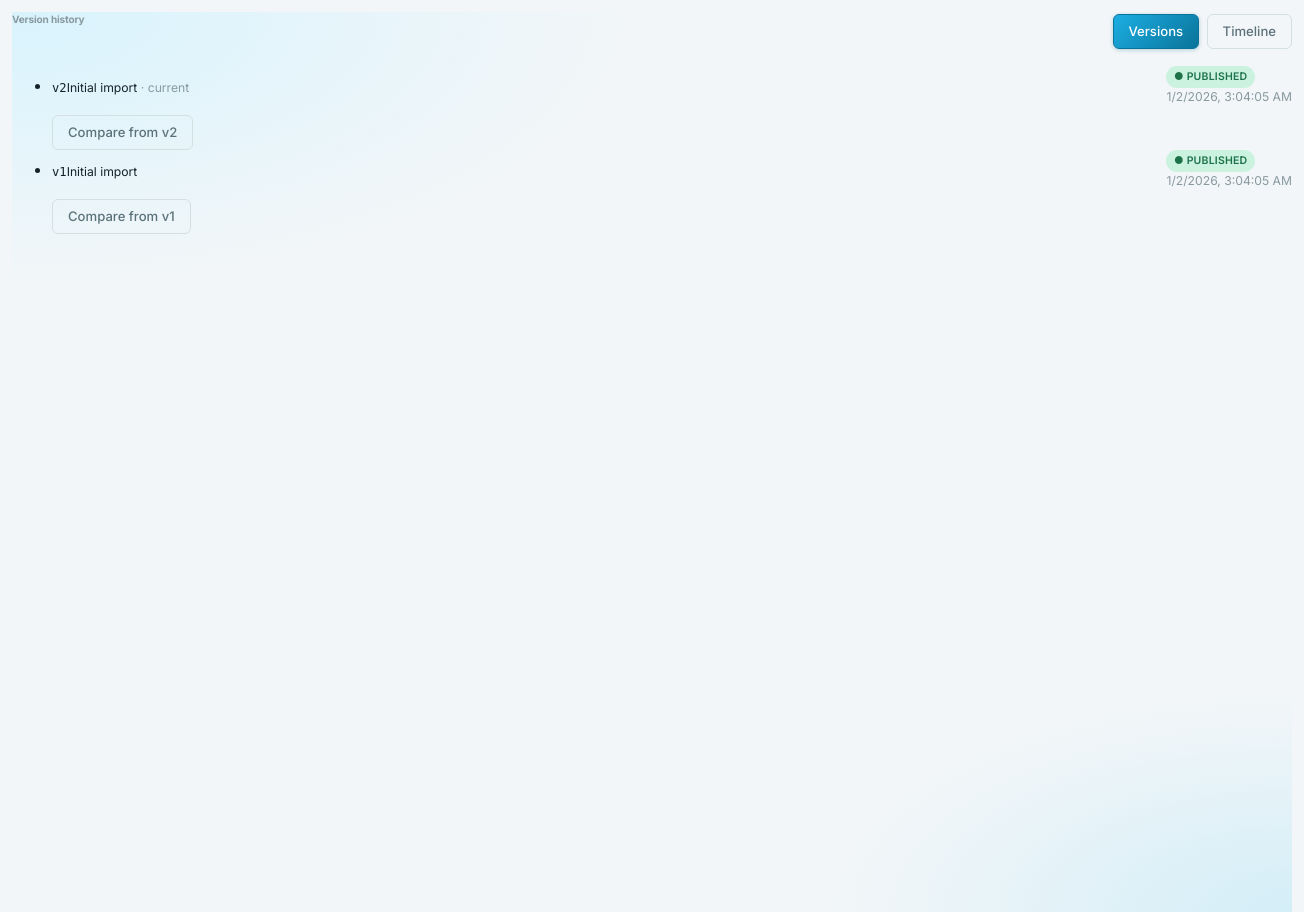
Test case: HistoryTab compare › diffs the selected version and renders attribute and geometry changes
This screenshot has width=1304, height=912.
Click the button with test id "history-compare-from-1" at (121, 216), box [52, 199, 191, 234]
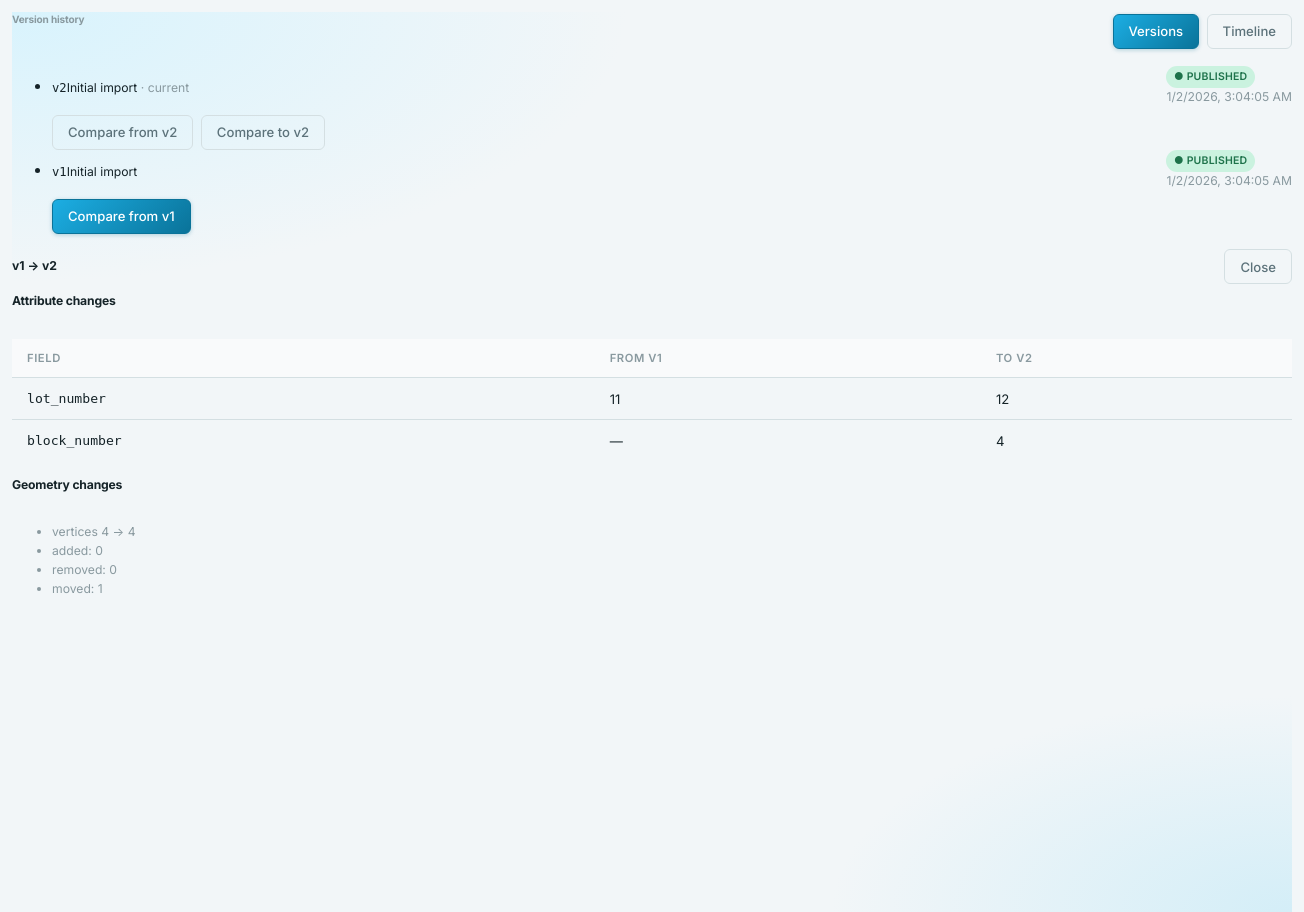
Result: the table with test id "history-compare-fields" is shown at [12, 339, 1292, 461]
Result: the table with test id "history-compare-fields" shows "lot_number" at [27, 391, 106, 406]
Result: the table with test id "history-compare-fields" shows "11" at [610, 391, 620, 407]
